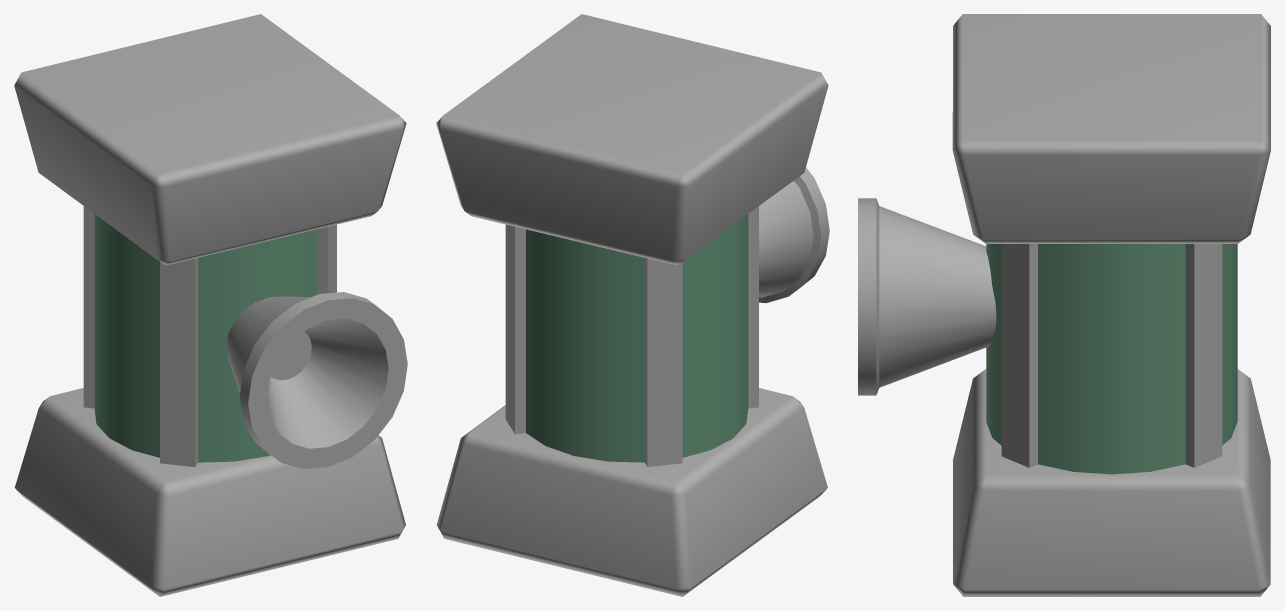
File: SteamReceiver.fbx
3 views of the same model, side by side, from view 1: azimuth 30°, elevation 25°; view 2: azimuth 150°, elevation 25°; view 3: azimuth 270°, elevation 25° (orthographic). The views are drawn at different scales.
Parts seen in each view (by area): view 1: Reciever; view 2: Reciever; view 3: Reciever.
Boxes of the visible parts, x1,y1,x2,y2 form: Reciever: (14, 14, 407, 596); Reciever: (436, 14, 829, 596); Reciever: (858, 14, 1270, 596).
Bounding box in the file's own units: 19.59 × 31.03 × 25.4.
